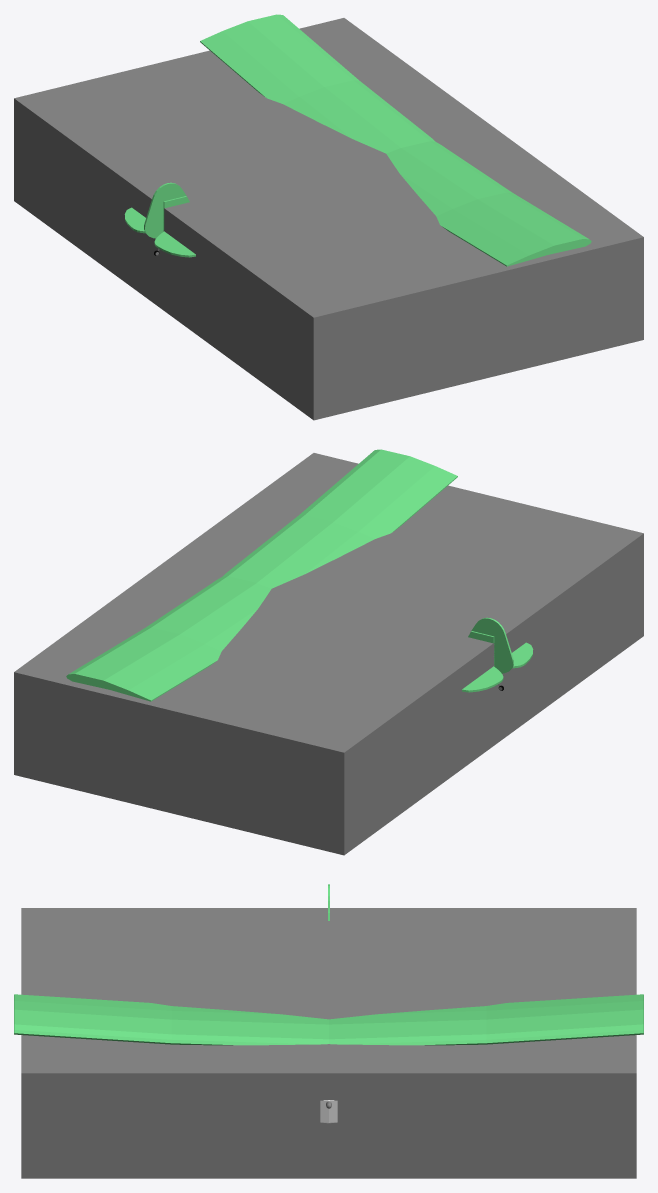
The model's file is Starter Plane.fbx.
The picture shows the model from 3 angles, top to bottom: view 1: azimuth 30°, elevation 25°; view 2: azimuth 150°, elevation 25°; view 3: azimuth 270°, elevation 25°; orthographic projection. The views are drawn at different scales.
Parts seen in each view (by area): view 1: A Measuring Cube, Main Plane Body (Minus Fuselage), Rudder; view 2: A Measuring Cube, Main Plane Body (Minus Fuselage), Rudder; view 3: A Measuring Cube, Main Plane Body (Minus Fuselage).
Part boxes in pixels (left/top/right/bottom): A Measuring Cube: left=14, top=18, right=643, bottom=420; Main Plane Body (Minus Fuselage): left=124, top=14, right=591, bottom=266; Rudder: left=144, top=182, right=186, bottom=238; A Measuring Cube: left=14, top=453, right=643, bottom=855; Main Plane Body (Minus Fuselage): left=66, top=449, right=533, bottom=701; Rudder: left=471, top=617, right=513, bottom=673; A Measuring Cube: left=21, top=908, right=636, bottom=1178; Main Plane Body (Minus Fuselage): left=14, top=911, right=643, bottom=1108.
Size of the model in its own units: 1475 by 499 by 2200.
